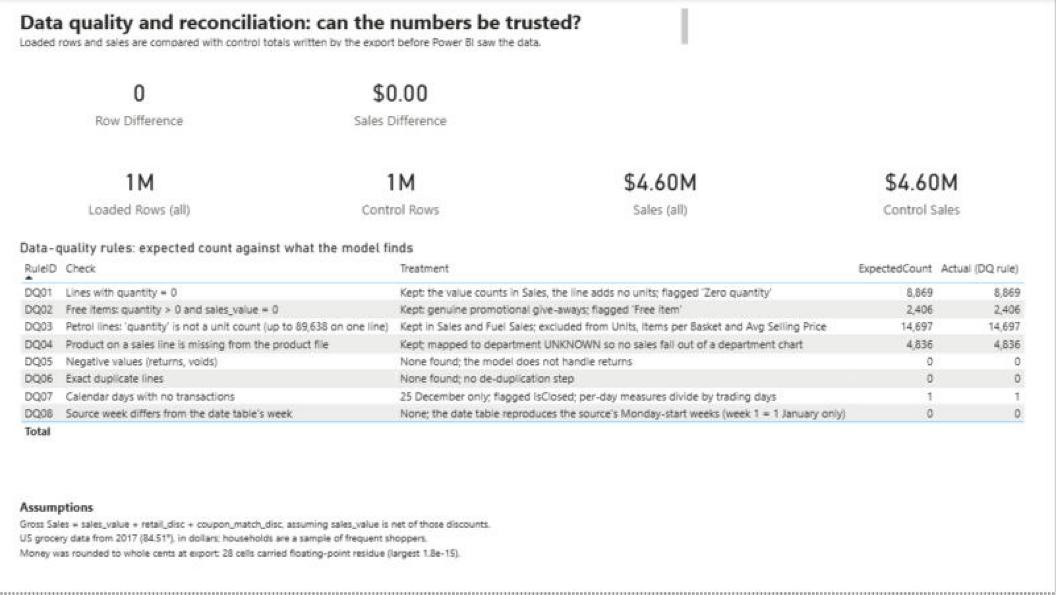

The page's visual inventory and layout, read from the dashboard file:
{"tool":"powerbi","page":{"name":"Data quality","canvas":[1280,720],"ordinal":4},"visuals":[{"type":"textbox","box":[20,8,820,56],"z":1000},{"type":"card","fields":{"Values":["_Measures.Row Difference"]},"box":[20,76,300,96],"z":2000},{"type":"card","fields":{"Values":["_Measures.Sales Difference"]},"box":[336,76,300,96],"z":3000},{"type":"card","fields":{"Values":["_Measures.Loaded Rows (all)"]},"box":[20,184,300,96],"z":4000},{"type":"card","fields":{"Values":["_Measures.Control Rows"]},"box":[336,184,300,96],"z":5000},{"type":"card","fields":{"Values":["_Measures.Sales (all)"]},"box":[652,184,300,96],"z":6000},{"type":"card","fields":{"Values":["_Measures.Control Sales"]},"box":[968,184,300,96],"z":7000},{"type":"tableEx","title":"Data-quality rules: expected count against what the model finds","fields":{"Values":["DQ_Rules.RuleID","DQ_Rules.Check","DQ_Rules.Treatment","DQ_Rules.ExpectedCount","_Measures.Actual (DQ rule)"]},"box":[20,292,1240,300],"z":8000},{"type":"textbox","box":[20,602,1240,100],"z":9000}]}

Visuals, with their boxes in screenshot pixels (x1, y1, x2, y2), scaled from the page's 1280x720 canvas onto the 1056x595 screenshot:
textbox: region(16, 7, 693, 53)
card - _Measures.Row Difference: region(16, 63, 264, 142)
card - _Measures.Sales Difference: region(277, 63, 525, 142)
card - _Measures.Loaded Rows (all): region(16, 152, 264, 231)
card - _Measures.Control Rows: region(277, 152, 525, 231)
card - _Measures.Sales (all): region(538, 152, 785, 231)
card - _Measures.Control Sales: region(799, 152, 1046, 231)
"Data-quality rules: expected count against what the model finds" tableEx: region(16, 241, 1040, 489)
textbox: region(16, 497, 1040, 580)
